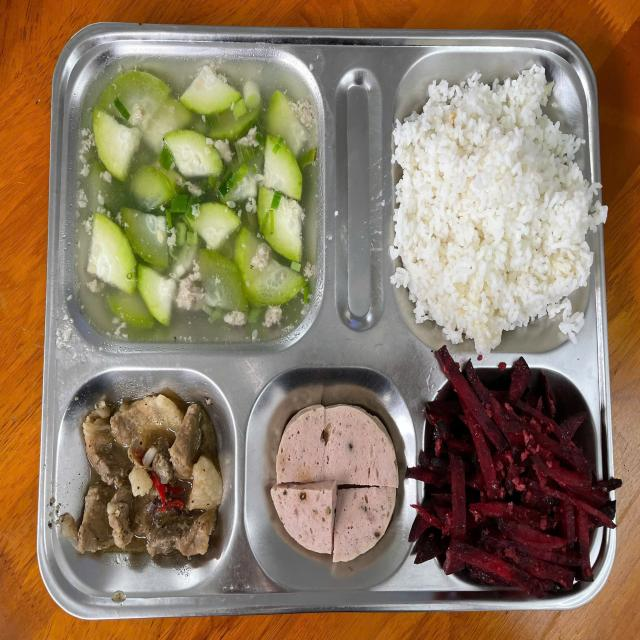canhbau: (83, 66, 317, 330)
cucaido: (424, 366, 604, 589)
giocha: (263, 394, 402, 572)
salad: (402, 84, 581, 345)
thitkhogung: (69, 395, 221, 560)
